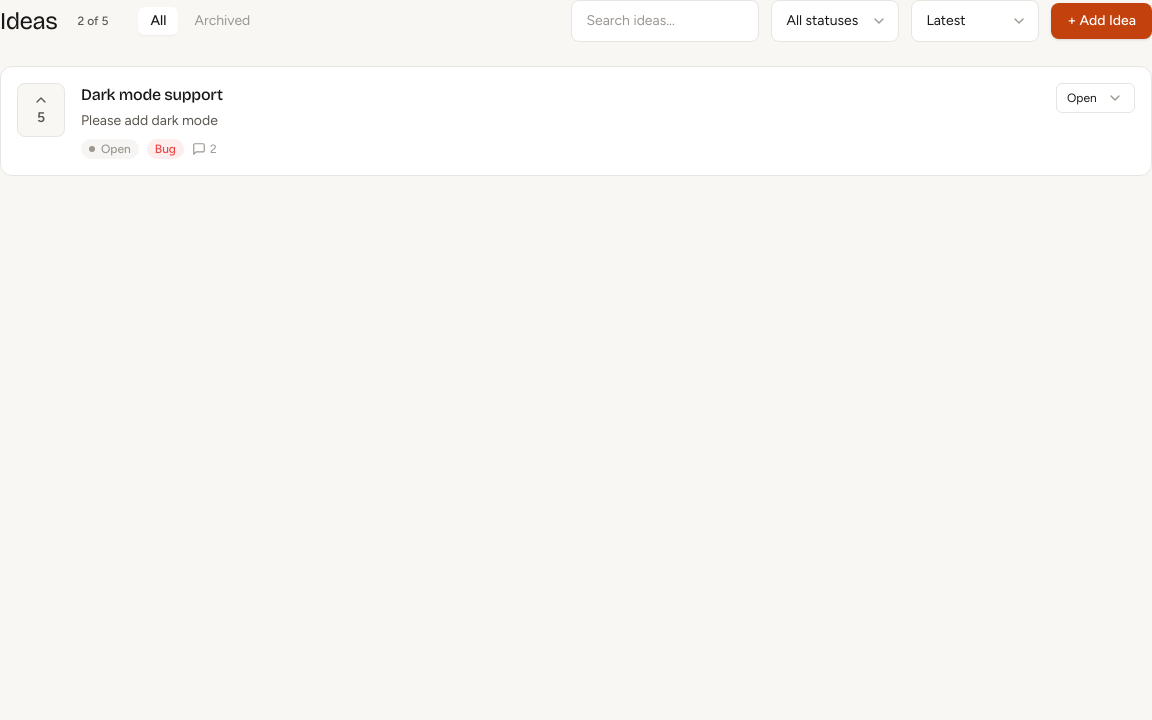
Scenario: DashboardPage › Add Idea button opens modal
Expected: the heading "Dark mode support" is shown, [81,83,223,107]
Note: Find the "+ Add Idea" button in the toolbar (not the empty state one)
Click the button "+ Add Idea". click: point(1102, 21)
box: [1051,3,1151,39]
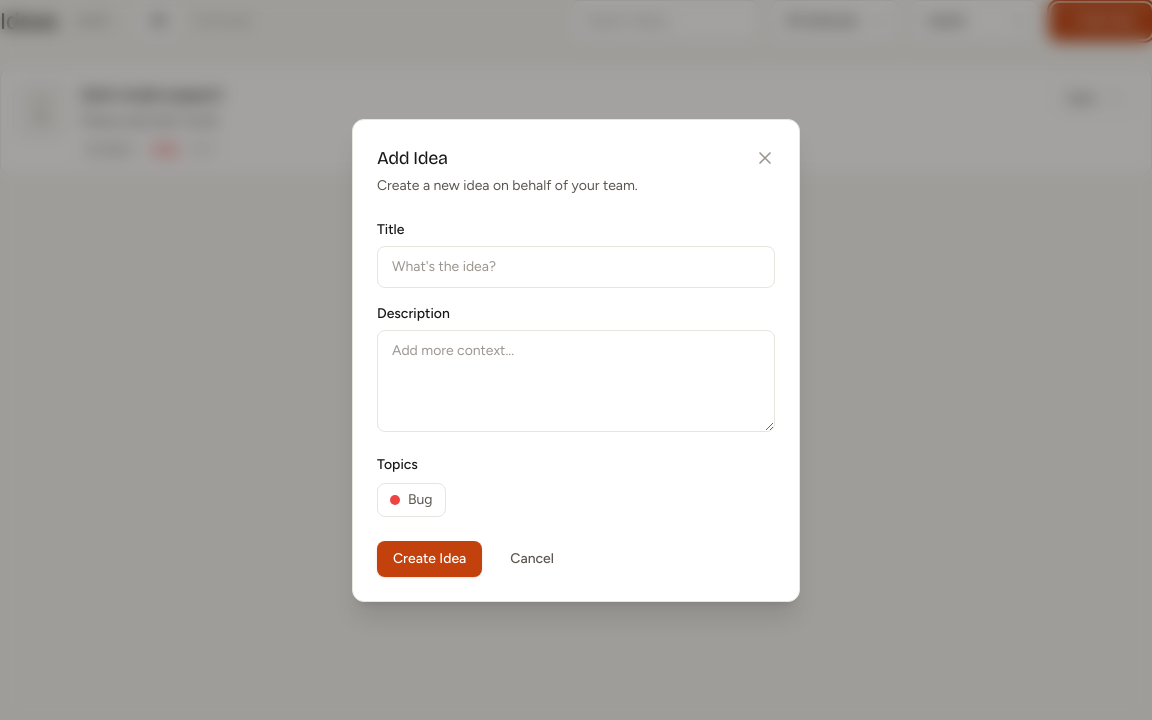
Now the text "Create a new idea on behalf of your team." is shown, box [377,176,638,196]
